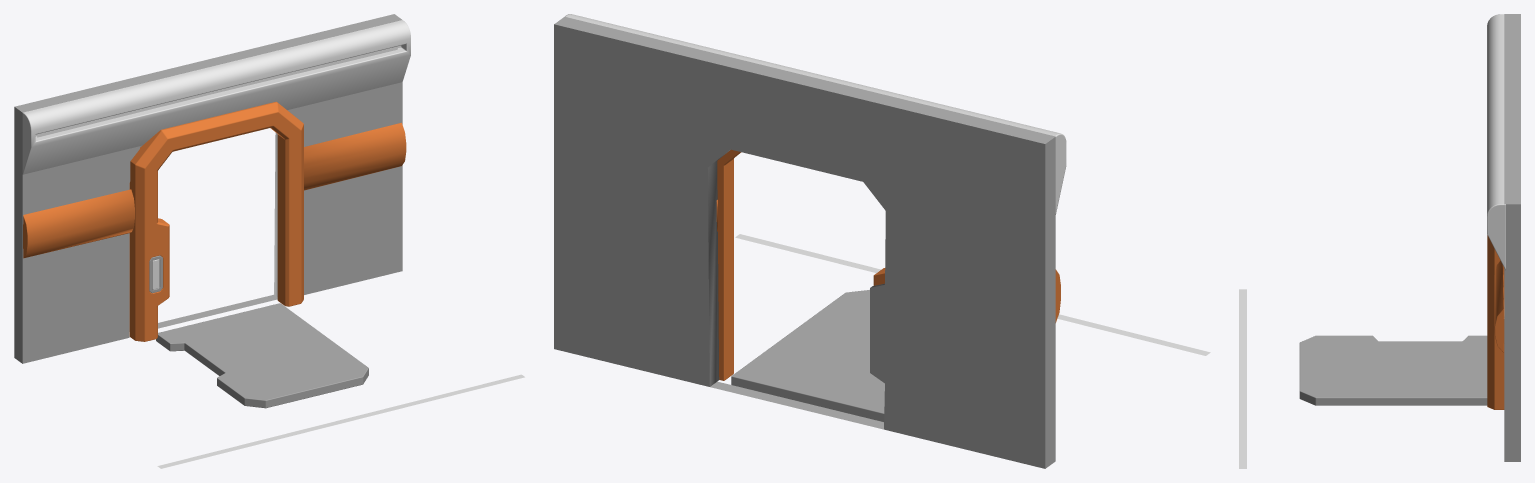
The model's file is DoorWall.fbx.
The picture shows the model from 3 angles, left to right: view 1: azimuth 30°, elevation 25°; view 2: azimuth 150°, elevation 25°; view 3: azimuth 270°, elevation 25°; orthographic projection. The views are drawn at different scales.
Parts seen in each view (by area): view 1: Wall_Base.001, WallTop.001, Door Frame.007, Door Frame.008, OrangeStuffEven.002, Led.001; view 2: Wall_Base.001, Door Frame.008, Door Frame.007, WallTop.001, Led.001; view 3: Door Frame.008, Wall_Base.001, WallTop.001, Door Frame.007, Led.001, OrangeStuffEven.002.
Boxes of the visible parts, bbox=[...] form: Wall_Base.001: bbox=[14, 14, 402, 363]; WallTop.001: bbox=[22, 20, 410, 174]; Door Frame.007: bbox=[129, 101, 303, 341]; Door Frame.008: bbox=[156, 303, 368, 408]; OrangeStuffEven.002: bbox=[23, 122, 406, 258]; Led.001: bbox=[157, 374, 524, 468]; Wall_Base.001: bbox=[554, 16, 1055, 468]; Door Frame.008: bbox=[731, 290, 884, 421]; Door Frame.007: bbox=[717, 149, 885, 380]; WallTop.001: bbox=[565, 14, 1066, 214]; Led.001: bbox=[735, 234, 1210, 355]; Door Frame.008: bbox=[1299, 335, 1487, 405]; Wall_Base.001: bbox=[1504, 14, 1520, 461]; WallTop.001: bbox=[1487, 14, 1505, 270]; Door Frame.007: bbox=[1487, 235, 1504, 409]; Led.001: bbox=[1239, 289, 1246, 468]; OrangeStuffEven.002: bbox=[1494, 260, 1504, 352].
Size of the model in its own units: 8.15 by 5.41 by 5.1.
